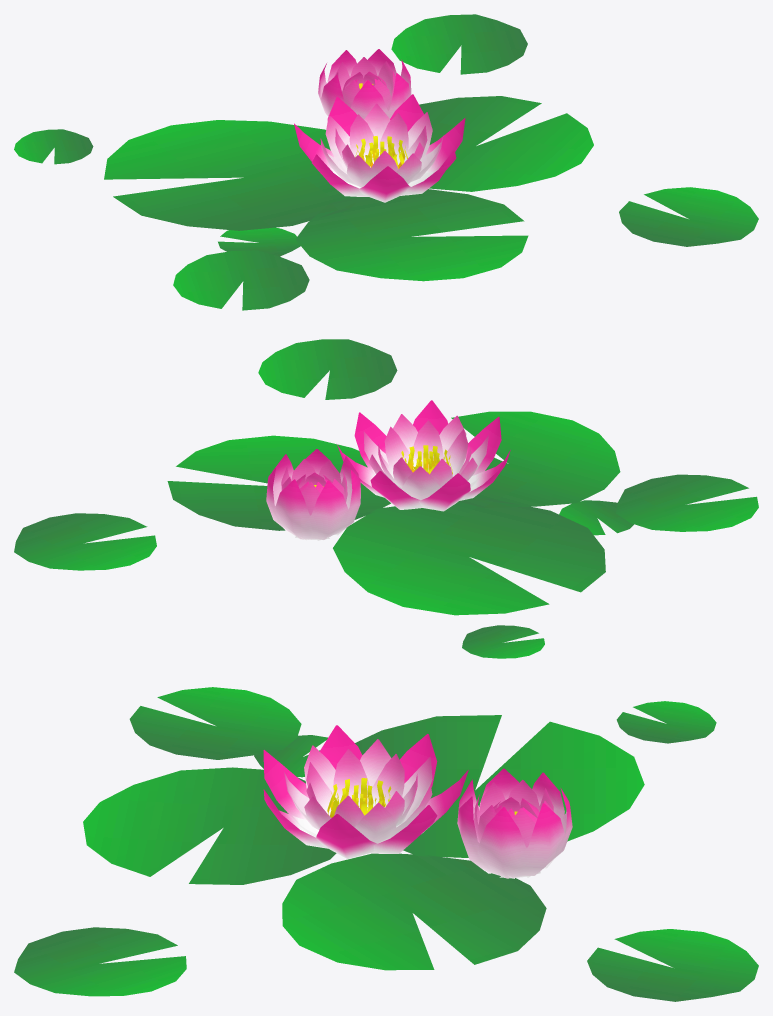
File: sceneDraco.gltf
The picture shows the model from 3 angles, top to bottom: view 1: azimuth 30°, elevation 25°; view 2: azimuth 150°, elevation 25°; view 3: azimuth 270°, elevation 25°; orthographic projection. The views are drawn at different scales.
Visible parts, largest first — view 1: lillypad.001, lillypad.002, lillypad, lillypad.007, lillypad.004, lillypad.003, Petal.002, Petal.001, Petal.005, Petal, lillypad.005, lillypad.006 (+2 smaller); view 2: lillypad.001, lillypad.002, lillypad, lillypad.004, lillypad.003, lillypad.007, Petal.002, Petal.005, Petal, Petal.001, lillypad.005, lillypad.006 (+2 smaller); view 3: lillypad, lillypad.002, lillypad.001, lillypad.007, lillypad.003, lillypad.004, Petal.002, Petal.005, Petal.001, Petal, lillypad.005, Petal.004 (+3 smaller).
Part boxes in pixels (x1,y1,x2,y2): lillypad.001: (104, 120, 356, 230); lillypad.002: (295, 189, 528, 281); lillypad: (419, 96, 593, 191); lillypad.007: (619, 187, 758, 246); lillypad.004: (173, 250, 309, 310); lillypad.003: (391, 14, 527, 74); Petal.002: (294, 94, 465, 202); Petal.001: (320, 103, 443, 187); Petal.005: (318, 49, 411, 119); Petal: (335, 113, 427, 174); lillypad.005: (14, 129, 93, 164); lillypad.006: (218, 227, 300, 256); lillypad.001: (333, 498, 605, 615); lillypad.002: (451, 411, 620, 507); lillypad: (167, 435, 390, 530); lillypad.004: (616, 474, 758, 531); lillypad.003: (14, 513, 156, 570); lillypad.007: (258, 339, 397, 399); Petal.002: (337, 400, 510, 511); Petal.005: (266, 449, 360, 540); Petal: (378, 420, 471, 487); Petal.001: (363, 414, 488, 500); lillypad.005: (462, 625, 544, 658); lillypad.006: (559, 500, 633, 535); lillypad: (282, 853, 546, 970); lillypad.002: (83, 767, 336, 884); lillypad.001: (355, 715, 644, 857); lillypad.007: (14, 927, 186, 996); lillypad.003: (587, 929, 758, 1001); lillypad.004: (129, 687, 301, 759); Petal.002: (263, 725, 468, 858); Petal.005: (457, 768, 572, 878); Petal.001: (283, 739, 432, 843); Petal: (306, 749, 417, 827); lillypad.005: (616, 701, 716, 743); Petal.004: (474, 780, 553, 847).
Size of the model in its own units: 939 by 117 by 940.
Materials: 1 (1 with a texture image).
